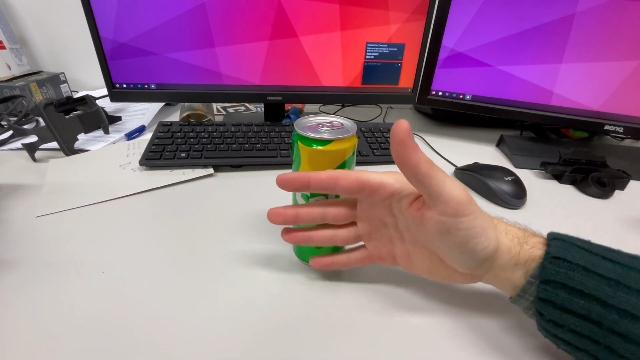Sprite: (288, 112, 360, 270)
